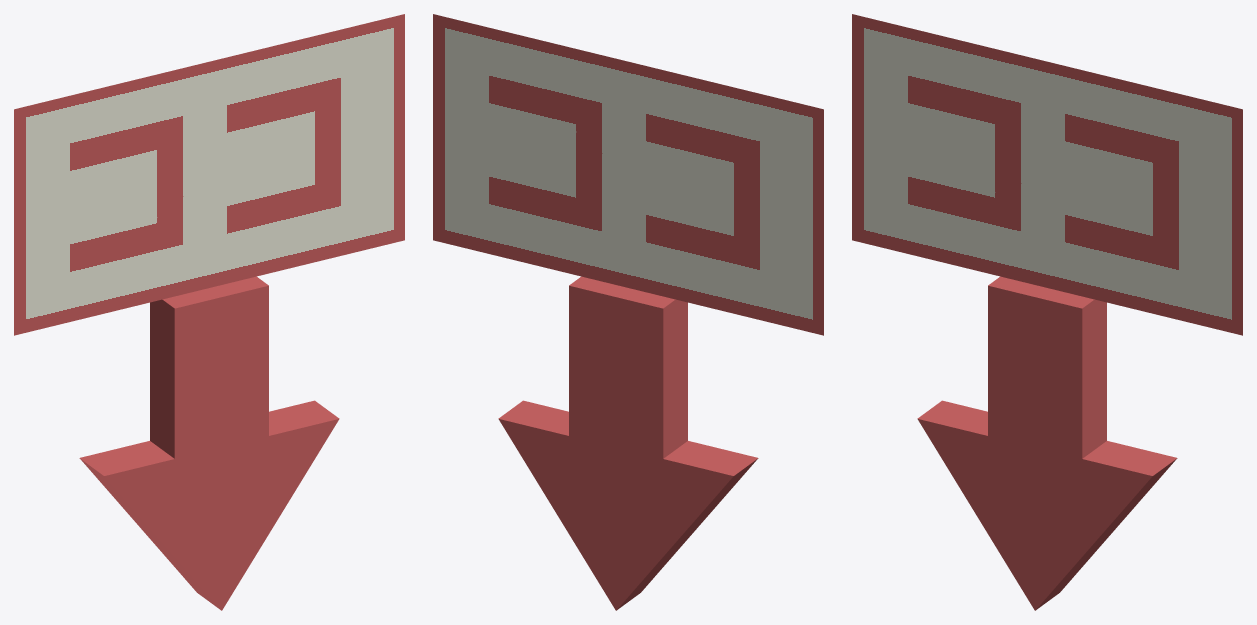
The model's file is 0126_You_Are_Here.glb.
3 views of the same model, side by side, from view 1: azimuth 30°, elevation 25°; view 2: azimuth 150°, elevation 25°; view 3: azimuth 330°, elevation 25° (orthographic).
Visible parts, largest first — view 1: part_0; view 2: part_0; view 3: part_0.
Boxes of the visible parts, x1=… form: part_0: x1=14, y1=14, x2=404, y2=610; part_0: x1=433, y1=14, x2=823, y2=610; part_0: x1=852, y1=14, x2=1242, y2=610.
Bounding box in the file's own units: 0.1266 × 0.1673 × 0.014.
1 material, 1 textured.
